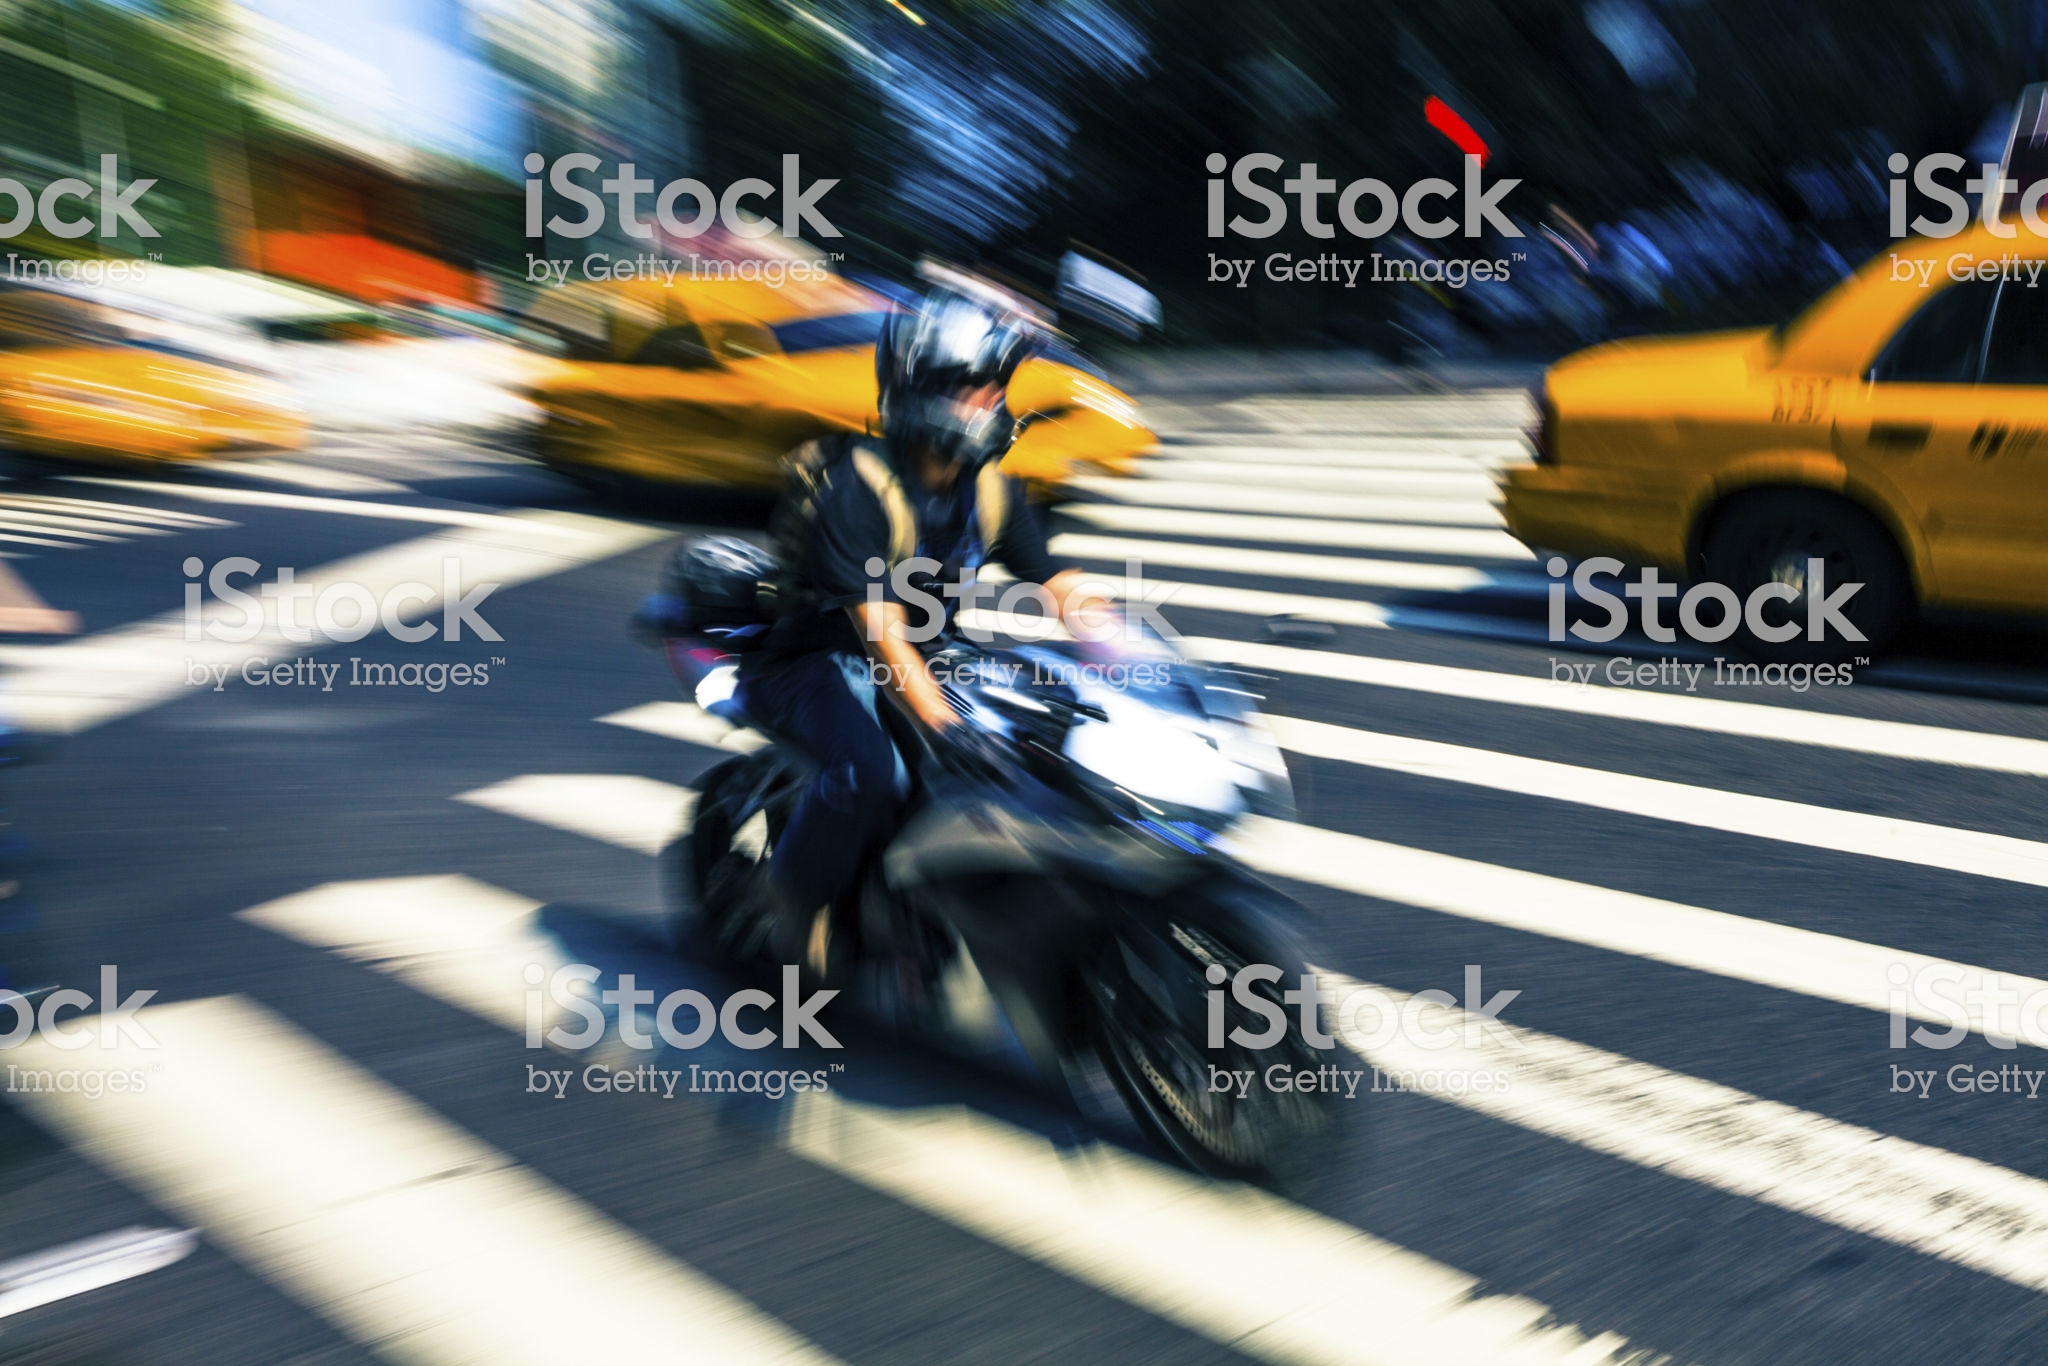helmet: (847, 281, 1061, 473)
